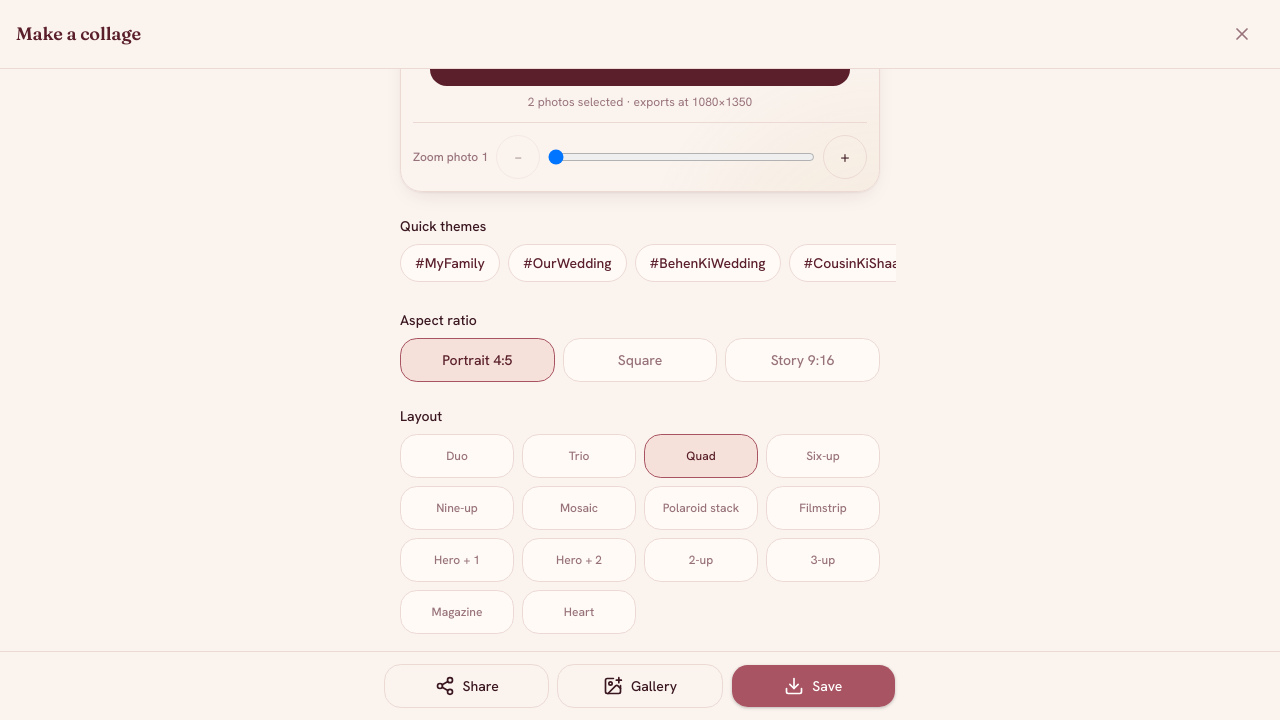
CollageMaker ratio toggle › switches ratio and updates the exported-size caption
(page scrolled)
Click the button "Story 9:16": (803, 360) [725, 338, 880, 382]
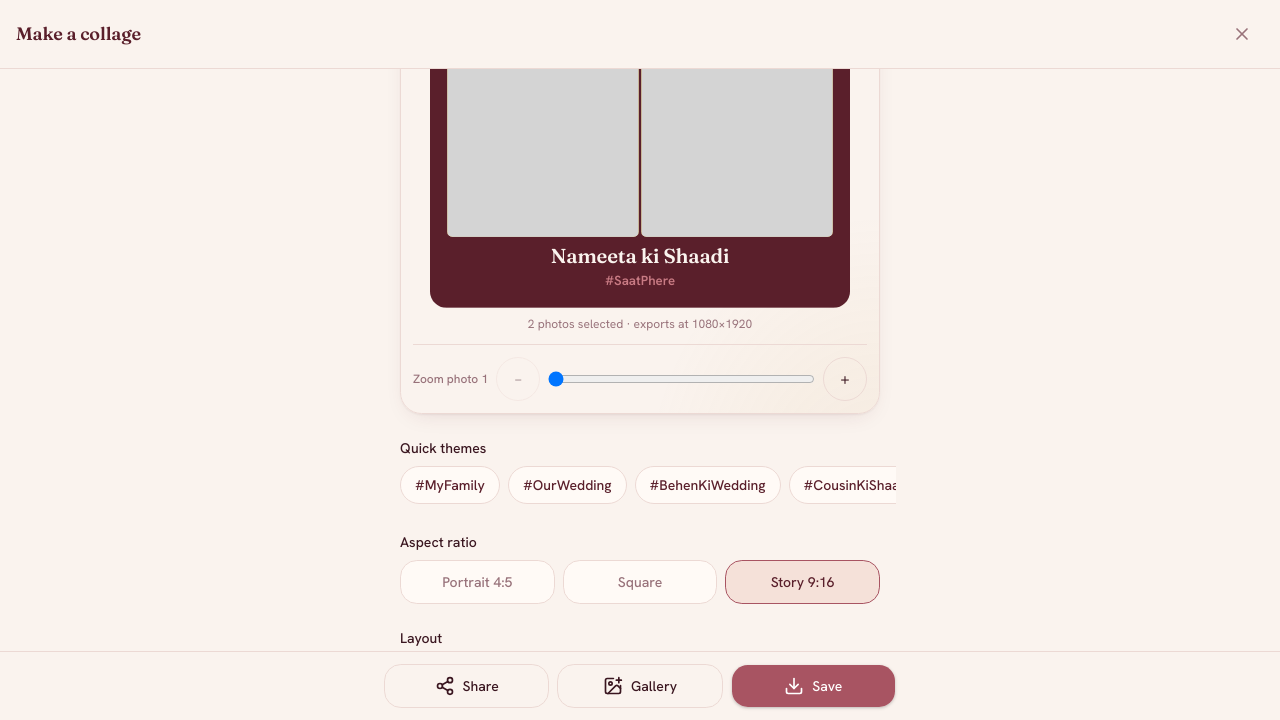
Expected: the text "2 photos selected · exports at 1080×1920" is shown, [528, 316, 752, 332]
